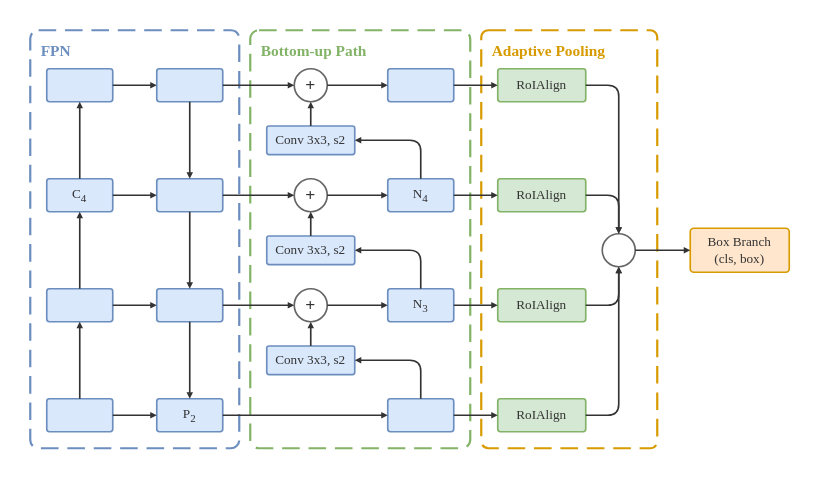
This 818x477 diagram has some shape labels left out. The centre of each missing label's shape, as x and y in pixels:
"C 2" goes at [79,414].
"C 3" goes at [79,304].
"C 5" goes at [79,84].
"max" goes at [618,249].
"N 2" goes at [420,414].
"N 5" goes at [420,84].
"P 3" goes at [189,304].
"P 4" goes at [189,194].
"P 5" goes at [189,84].
